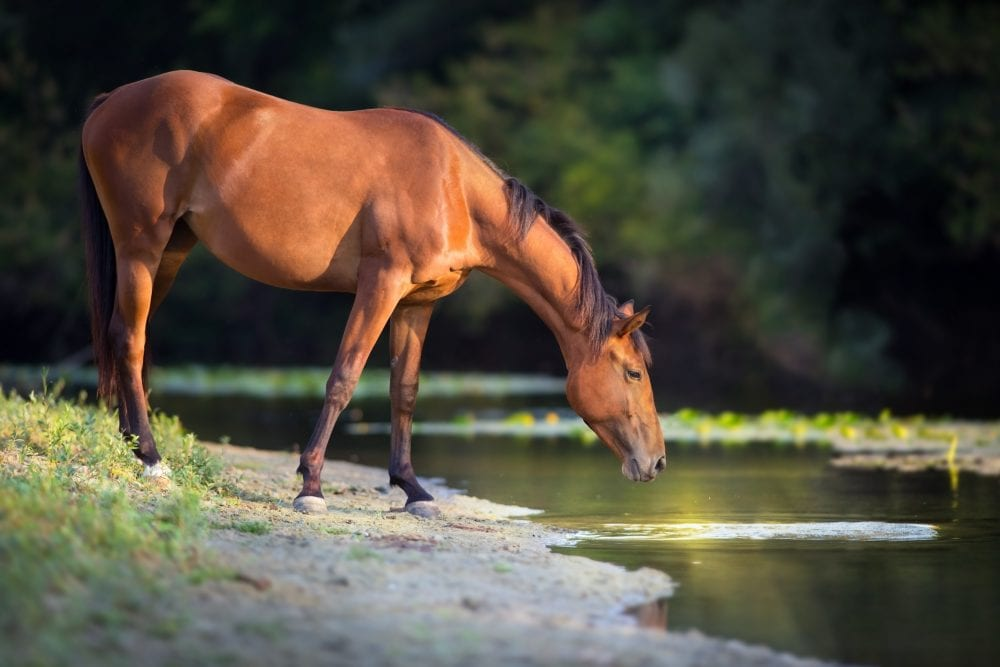Horse: (55, 46, 751, 558)
